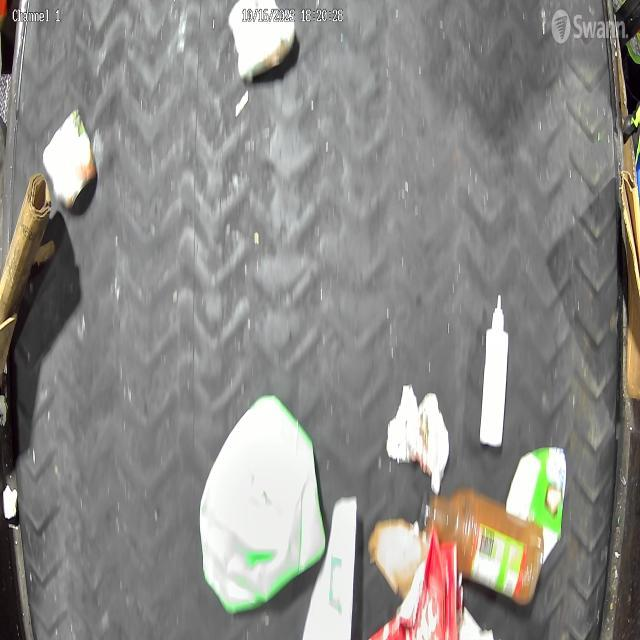can: (228, 0, 296, 85), (42, 108, 97, 212)
milk_jug: (198, 394, 328, 618)
